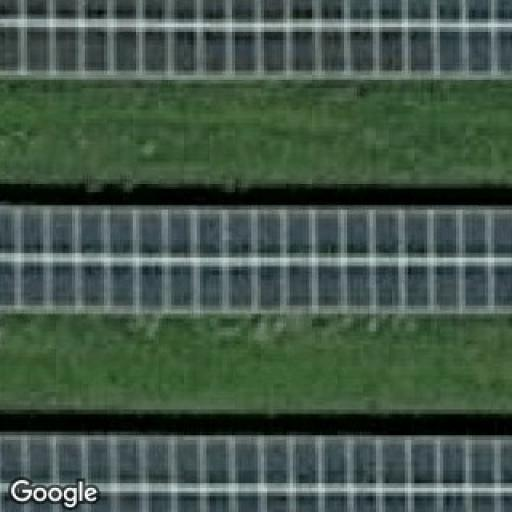solar-panel: (0, 203, 512, 317), (0, 0, 512, 83), (0, 435, 512, 512)
